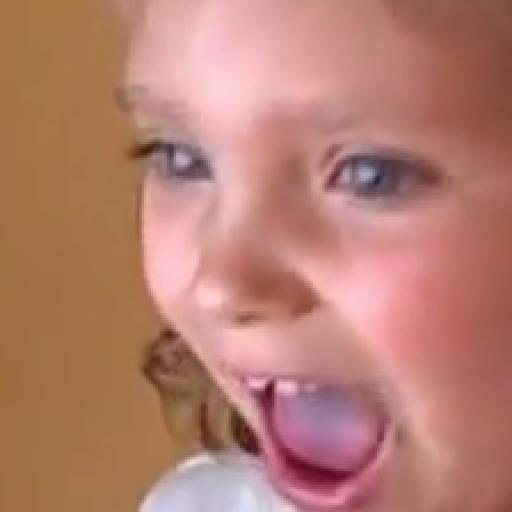Autism: (85, 0, 511, 512)
